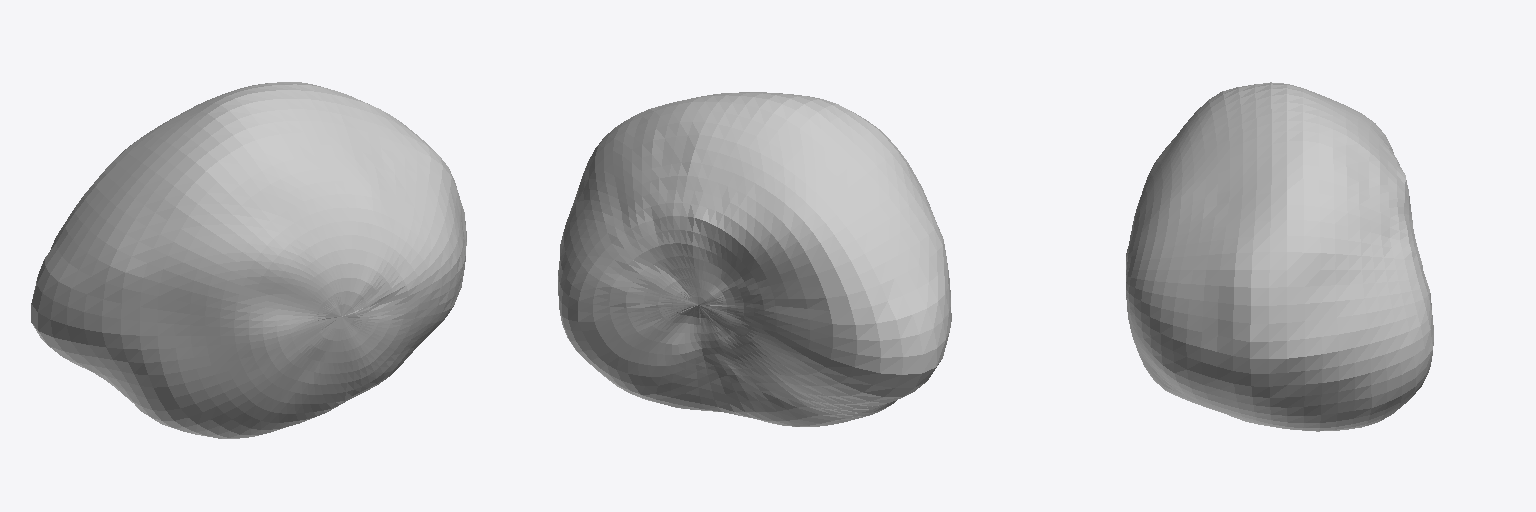
Rendered from Deimos.obj.
3 views of the same model, side by side, from view 1: azimuth 30°, elevation 25°; view 2: azimuth 150°, elevation 25°; view 3: azimuth 270°, elevation 25° (orthographic).
Size of the model in its own units: 16.01 by 12.65 by 11.06.